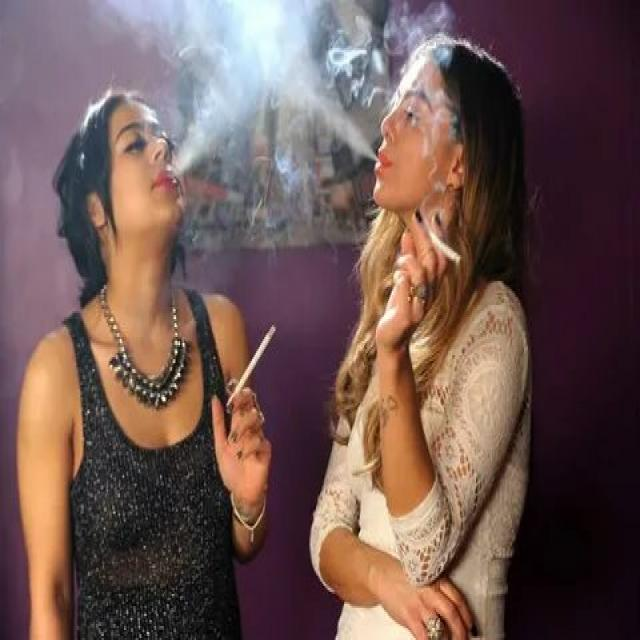cigarette: (223, 321, 281, 417), (420, 223, 464, 275)
